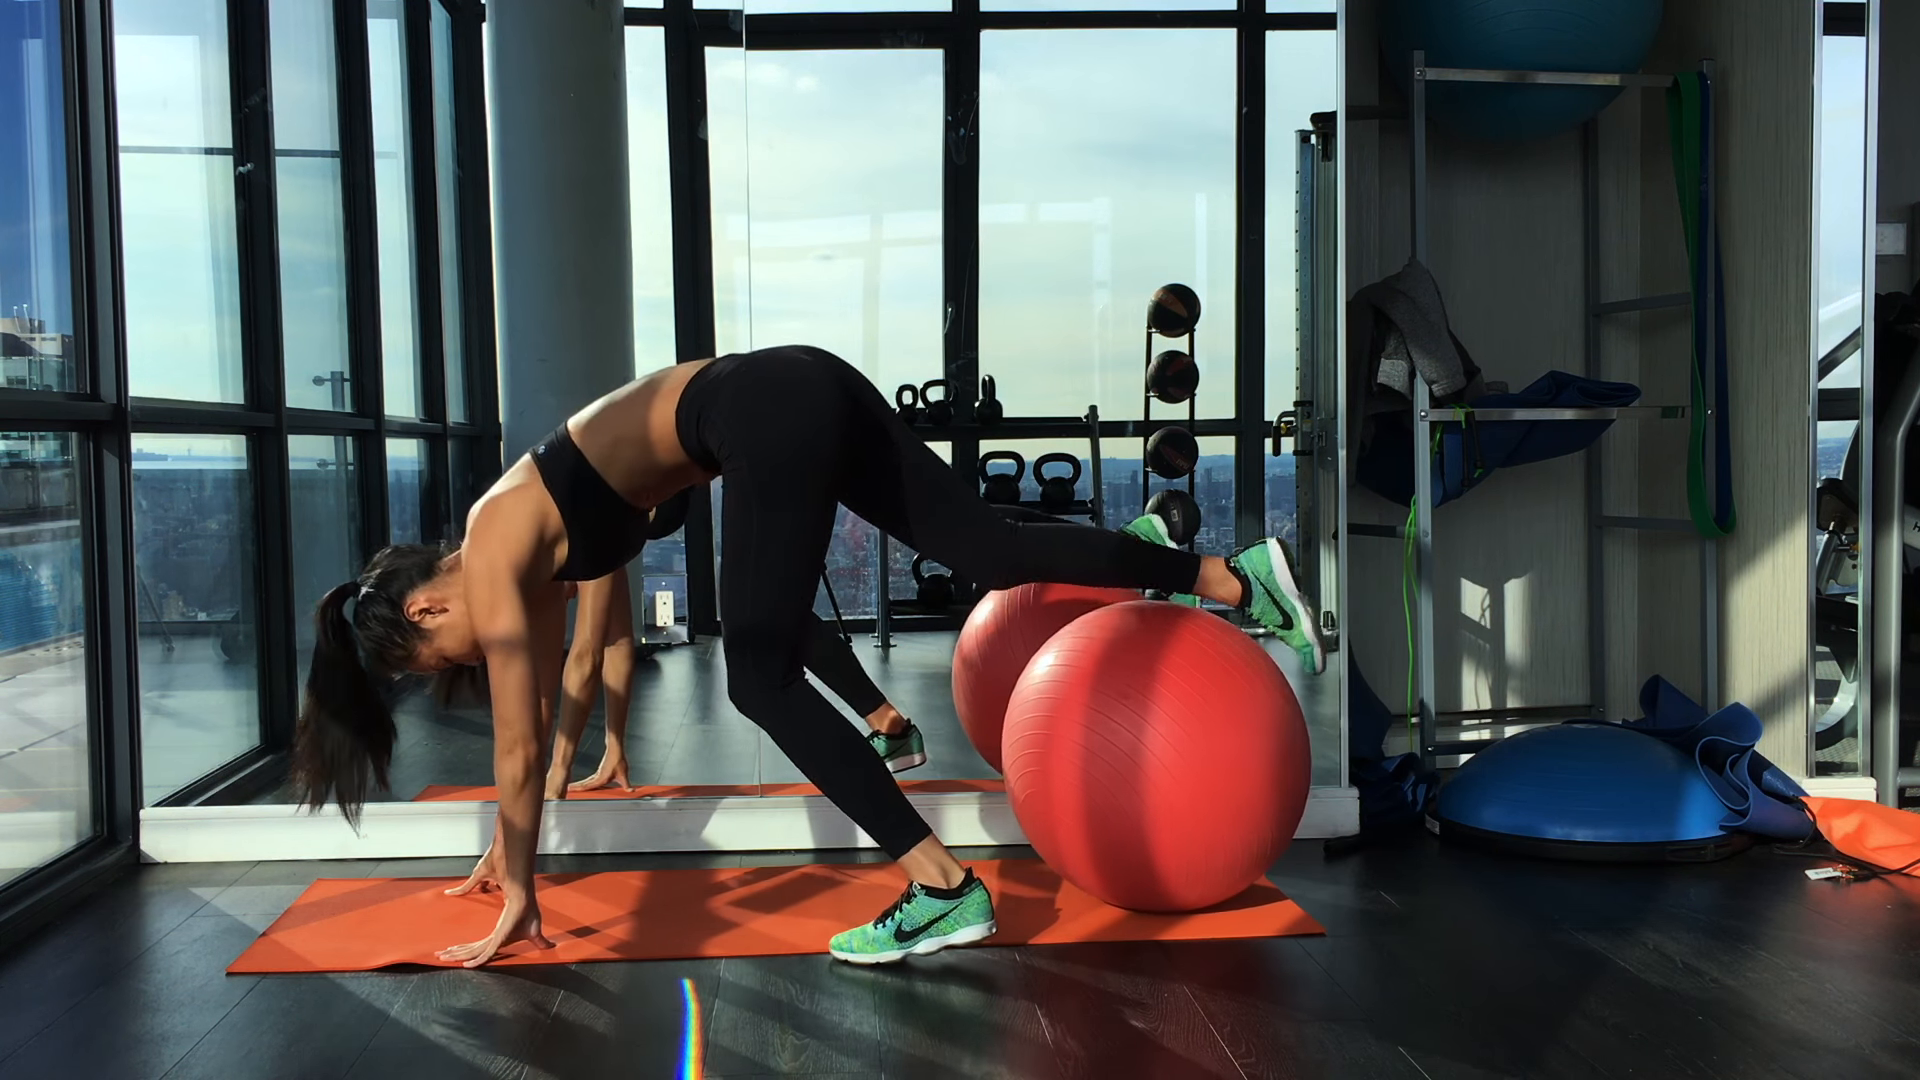yogaball: (992, 615, 1316, 932)
